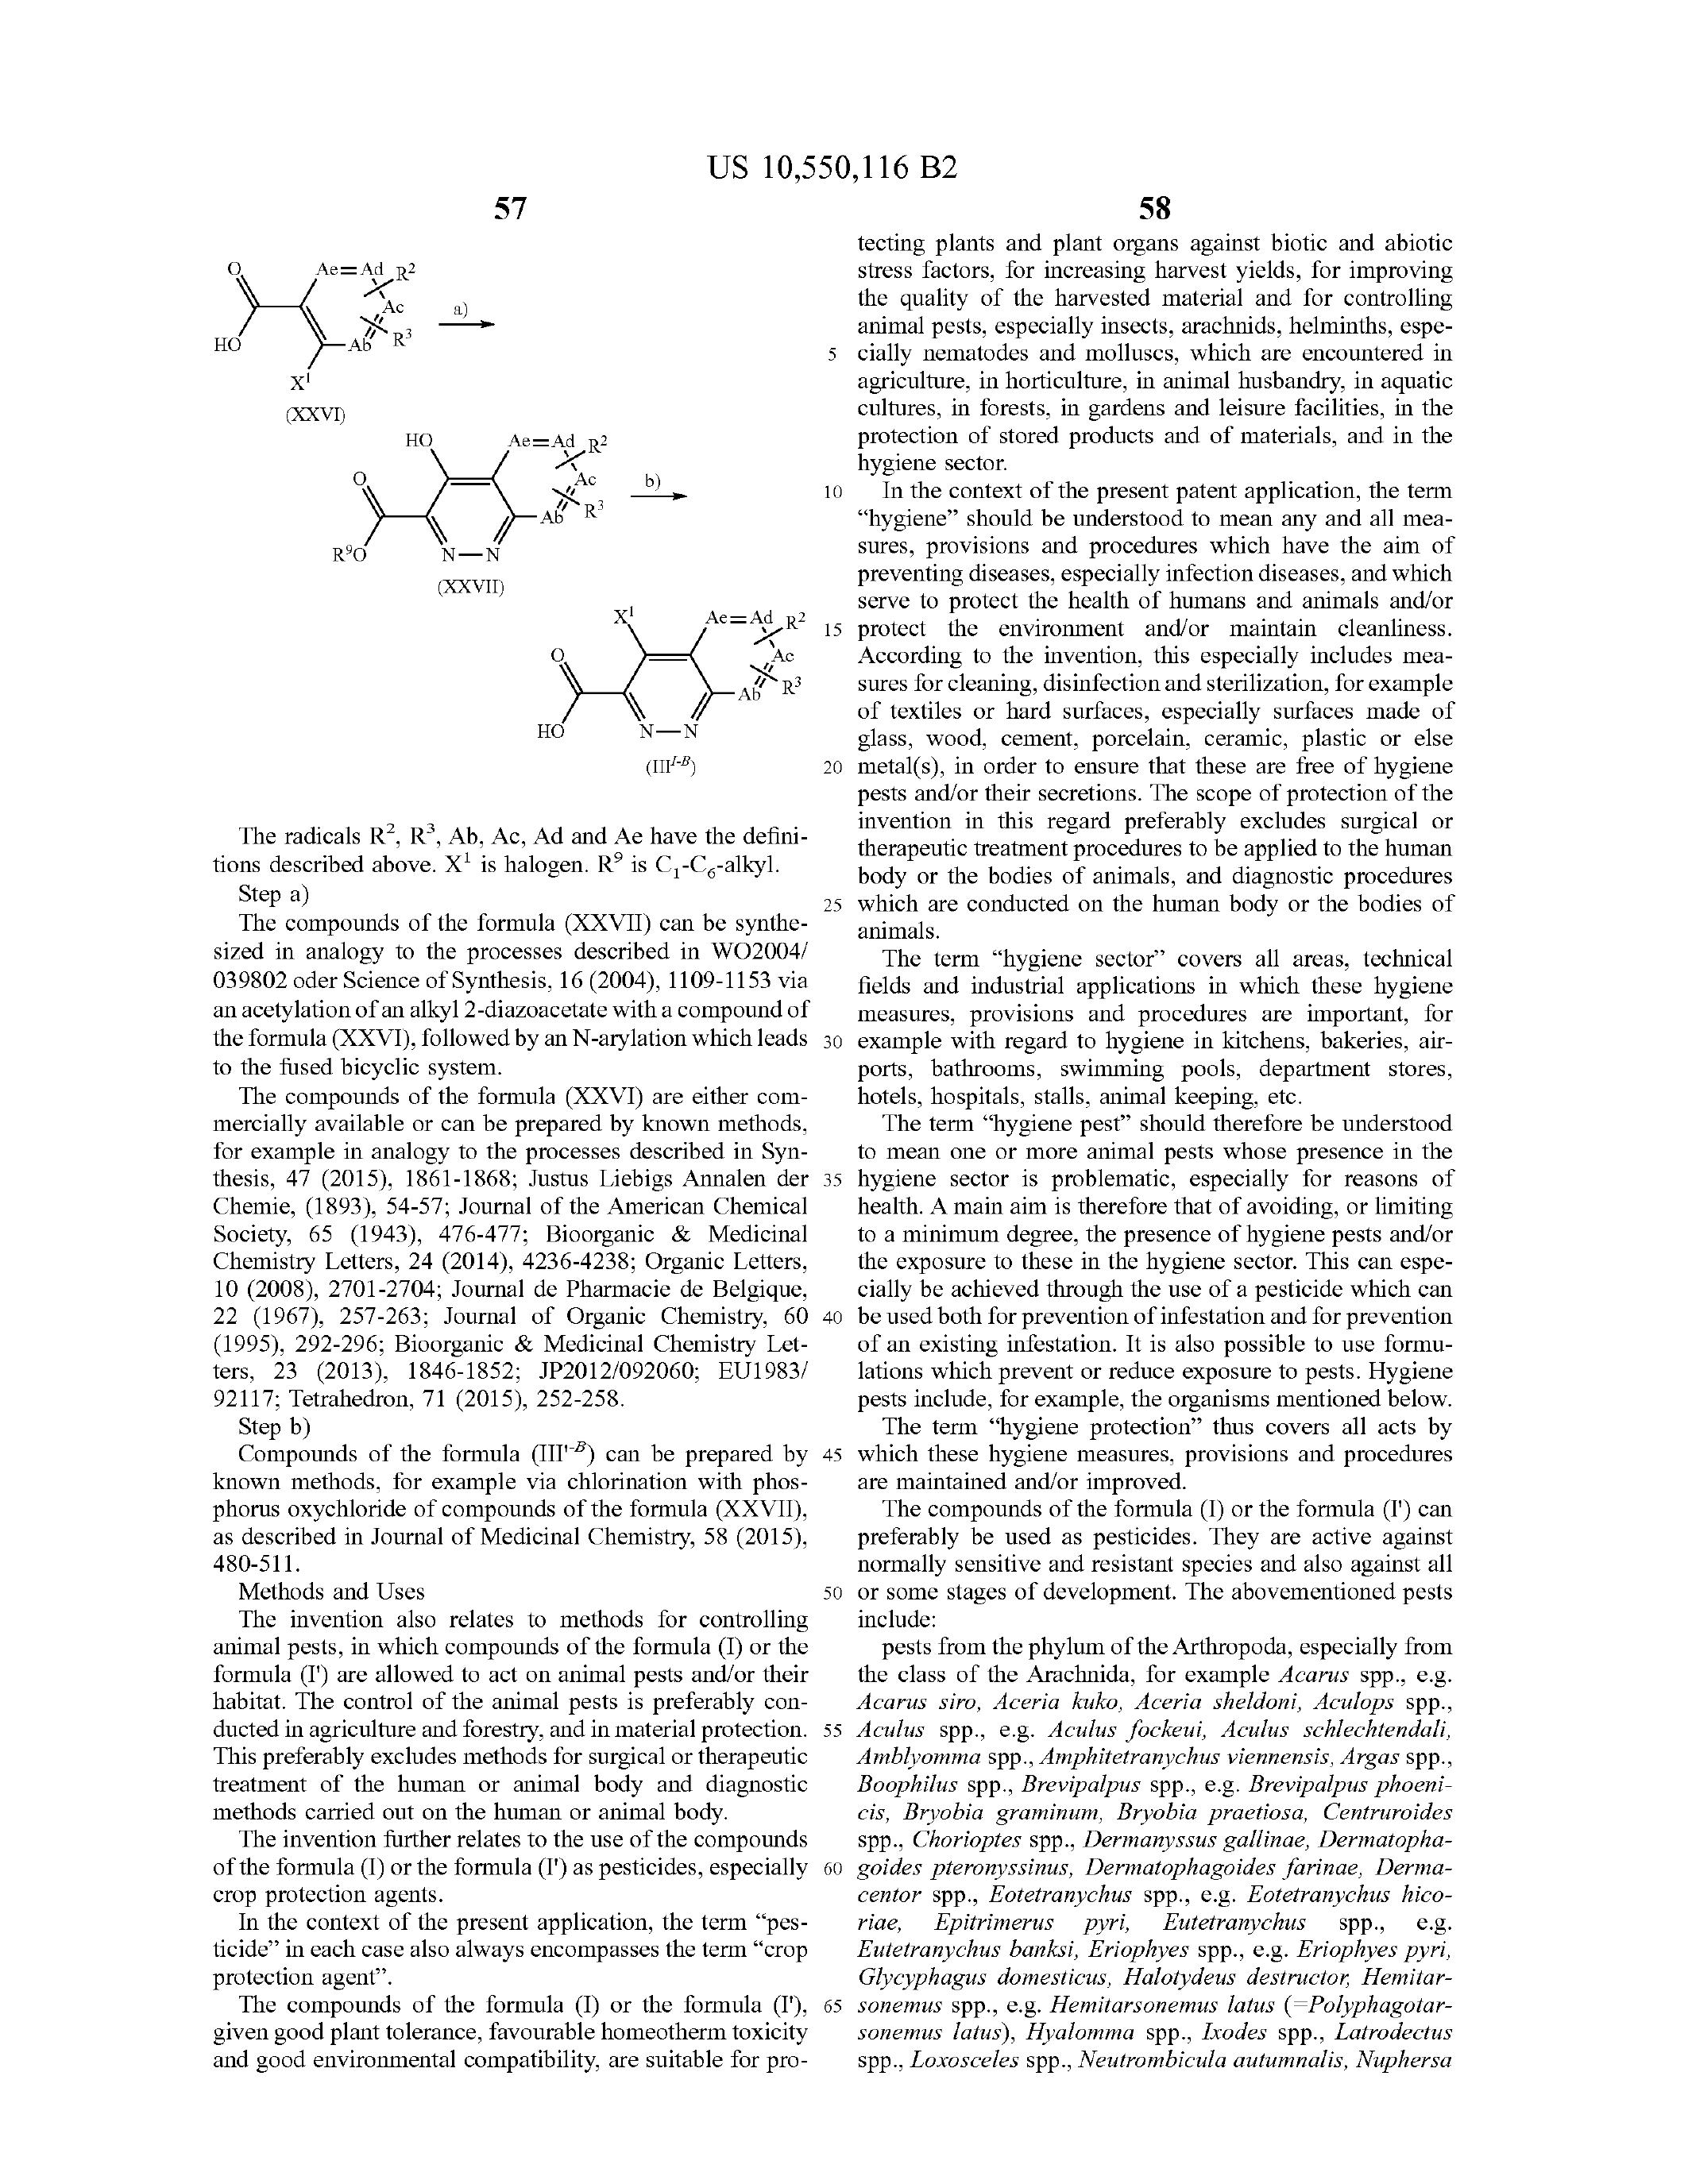reactions: (25, 188, 794, 796)
